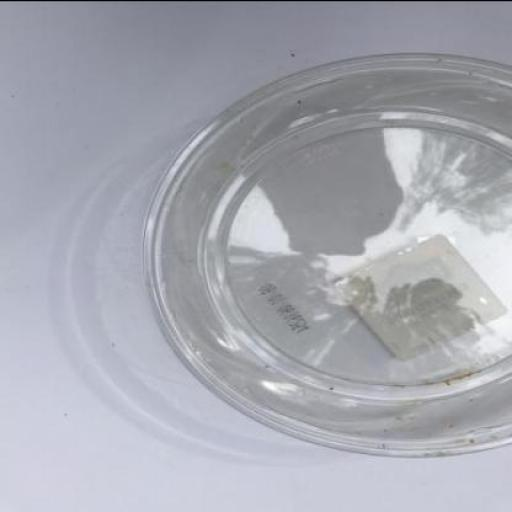plastic: (140, 53, 511, 458)
